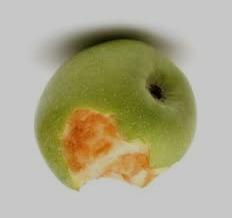rotten apple: (32, 37, 207, 199)
